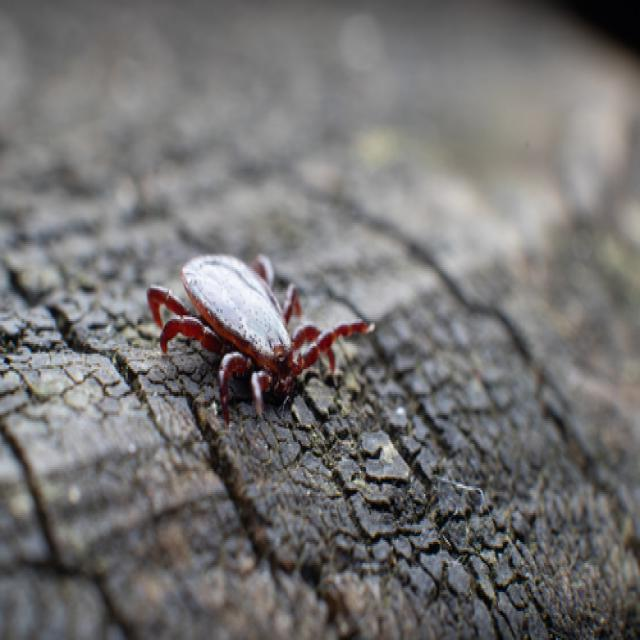Dermacentor Reticulatus-M: (147, 256, 374, 427)
